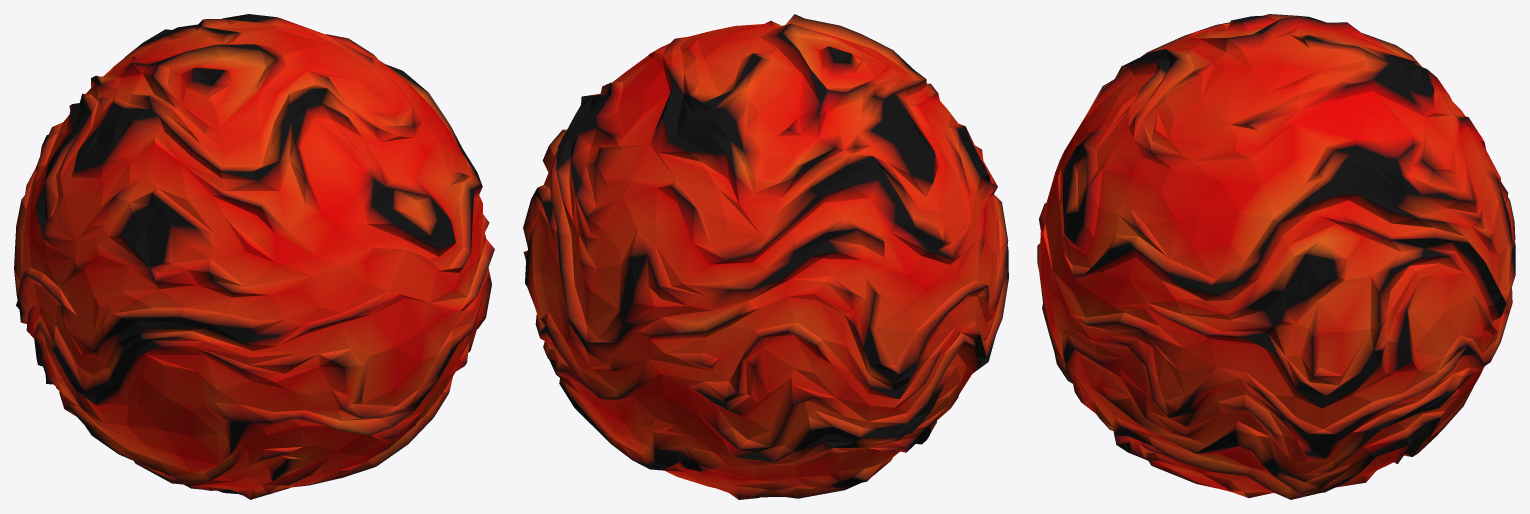
Rendered from volcanic_planet_15.fbx.
The picture shows the model from 3 angles, left to right: view 1: azimuth 30°, elevation 25°; view 2: azimuth 150°, elevation 25°; view 3: azimuth 270°, elevation 25°; orthographic projection.
Visible parts, largest first — view 1: filecache2; view 2: filecache2; view 3: filecache2.
Part boxes in pixels (<box>): filecache2: <box>14,14,494,499</box>; filecache2: <box>523,14,1008,499</box>; filecache2: <box>1037,14,1515,499</box>.
Bounding box in the file's own units: 2.05 × 2.06 × 2.03.
